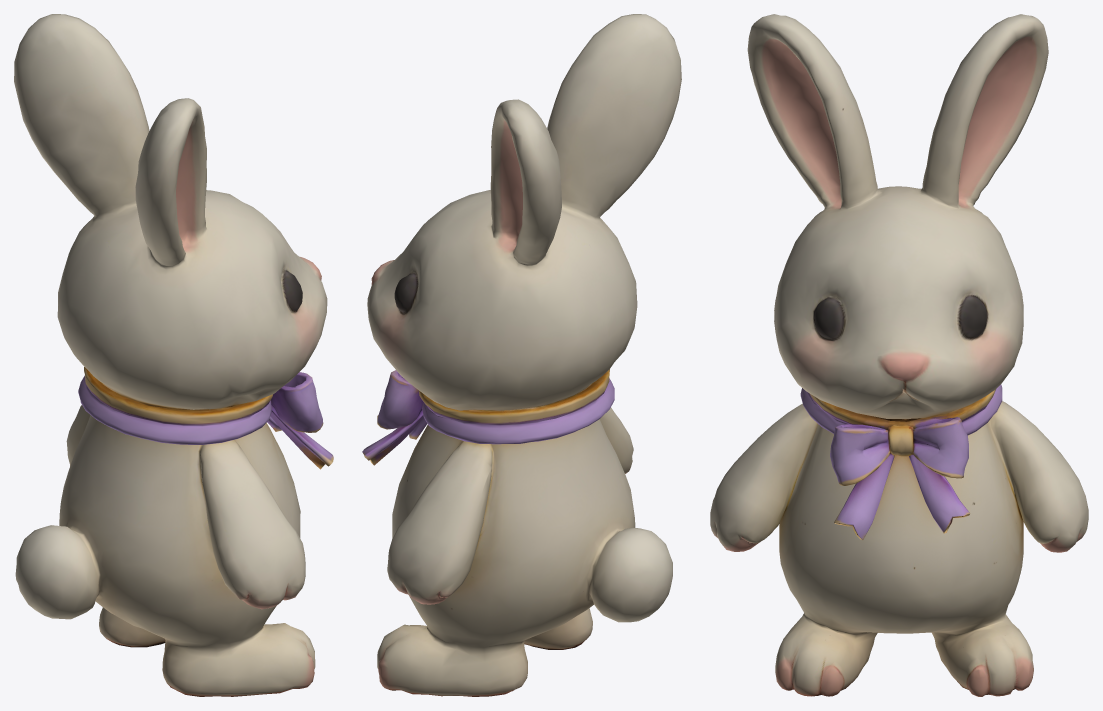
Rendered from r33-bunny.glb.
3 views of the same model, side by side, from view 1: azimuth 30°, elevation 25°; view 2: azimuth 150°, elevation 25°; view 3: azimuth 270°, elevation 25° (orthographic).
Visible parts, largest first — view 1: tripo_node_fbf21719-2a8b-443d-a9e8-32cadddb1aa7; view 2: tripo_node_fbf21719-2a8b-443d-a9e8-32cadddb1aa7; view 3: tripo_node_fbf21719-2a8b-443d-a9e8-32cadddb1aa7.
Part boxes in pixels (box(x1,y1,x2,y2)): tripo_node_fbf21719-2a8b-443d-a9e8-32cadddb1aa7: box(14, 14, 333, 696); tripo_node_fbf21719-2a8b-443d-a9e8-32cadddb1aa7: box(362, 14, 681, 696); tripo_node_fbf21719-2a8b-443d-a9e8-32cadddb1aa7: box(710, 14, 1088, 696).
Bounding box in the file's own units: 0.4941 × 0.998 × 0.5566.
1 material, 1 textured.
